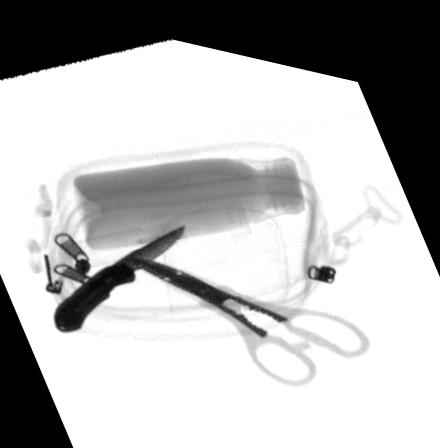Knife: (53, 216, 188, 329)
Scissors: (132, 250, 371, 373)
